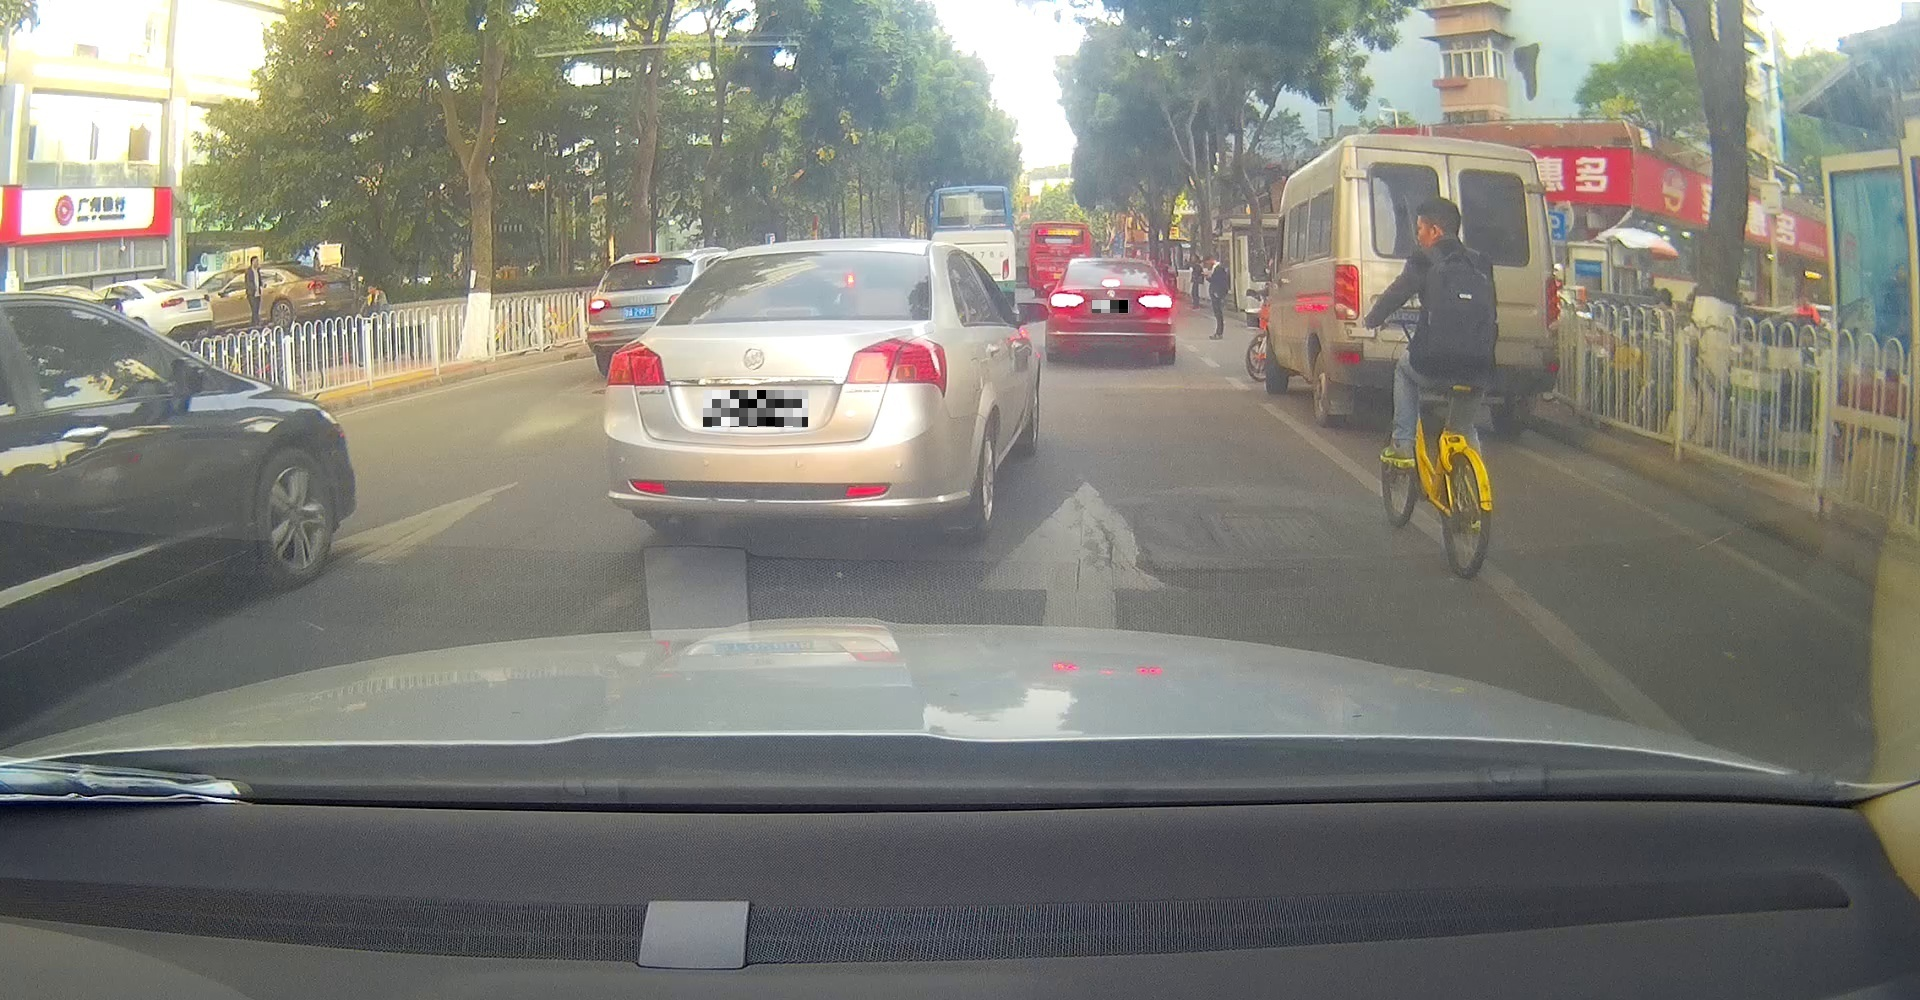L_light: (604, 341, 667, 386), (1050, 292, 1086, 312)
R_light: (844, 332, 947, 396), (1137, 291, 1173, 313)
T_light: (758, 306, 817, 319), (1101, 279, 1120, 287)
day-brake: (1045, 258, 1173, 360)
day-no: (603, 239, 947, 529)
plate_1: (703, 390, 808, 426)
plate_2: (1092, 299, 1129, 313)
